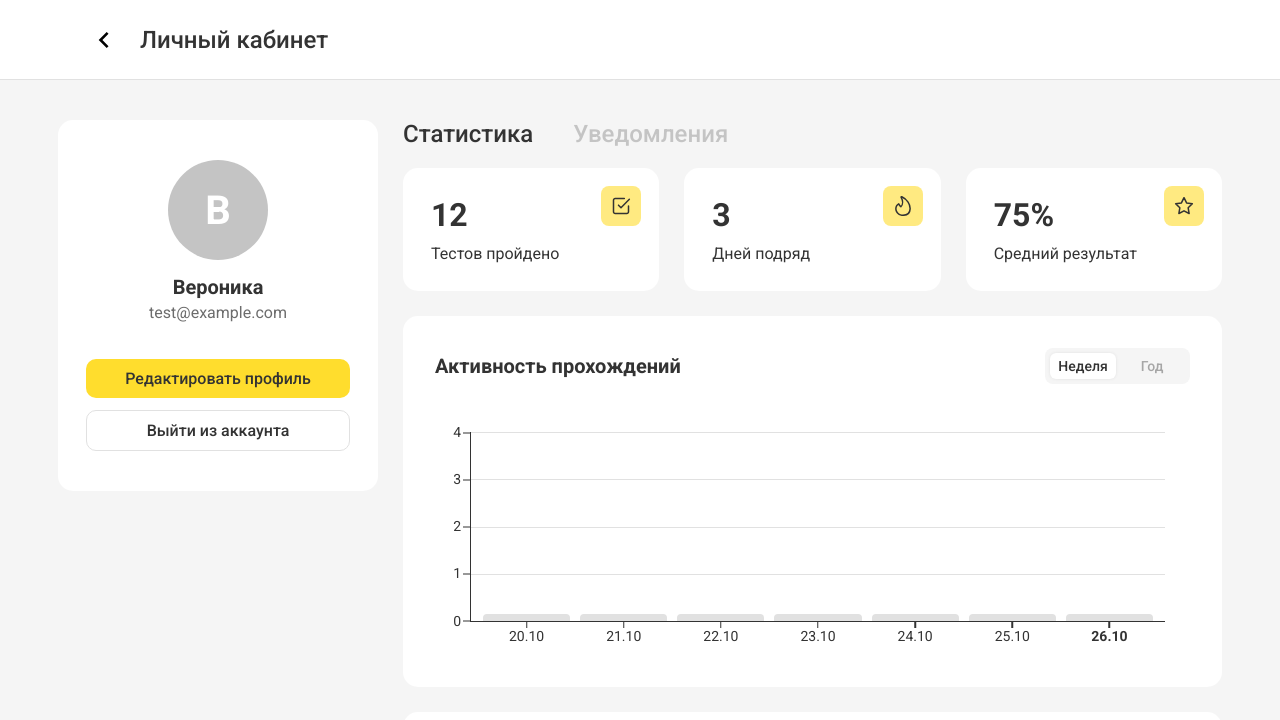
Test: ProfilePage › profile actions › edits name and shows updated name with toast
This screenshot has width=1280, height=720.
expect the heading "Вероника" is shown: met, box [173,275,263,299]
Click the button "Редактировать профиль" at coordinates (218, 378), box [86,359,350,398]
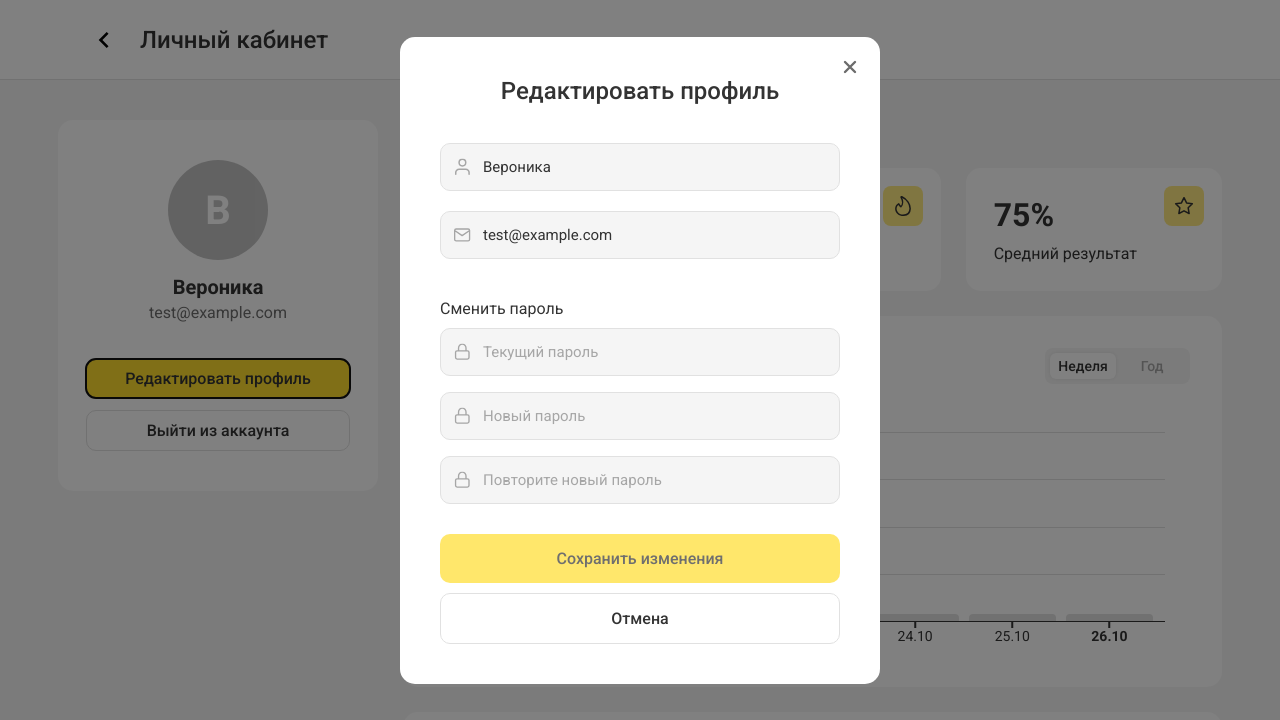
expect the heading "Редактировать профиль" is shown: met, box [501,76,779,104]
Replace the text in the 1st field with placeholder "Имя" with "Анна Смирнова" at coordinates (640, 166), box [440,142,840,190]
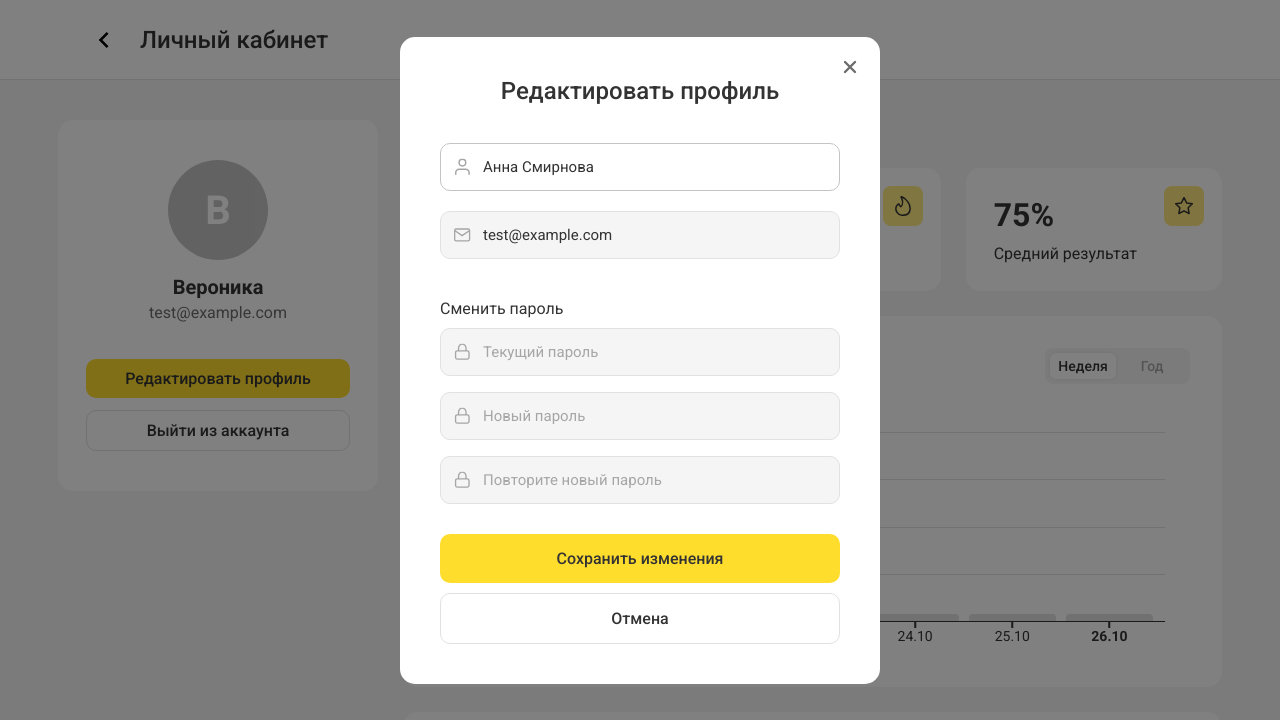
Click the button "Сохранить изменения" at coordinates (640, 558), box [440,534,840,582]
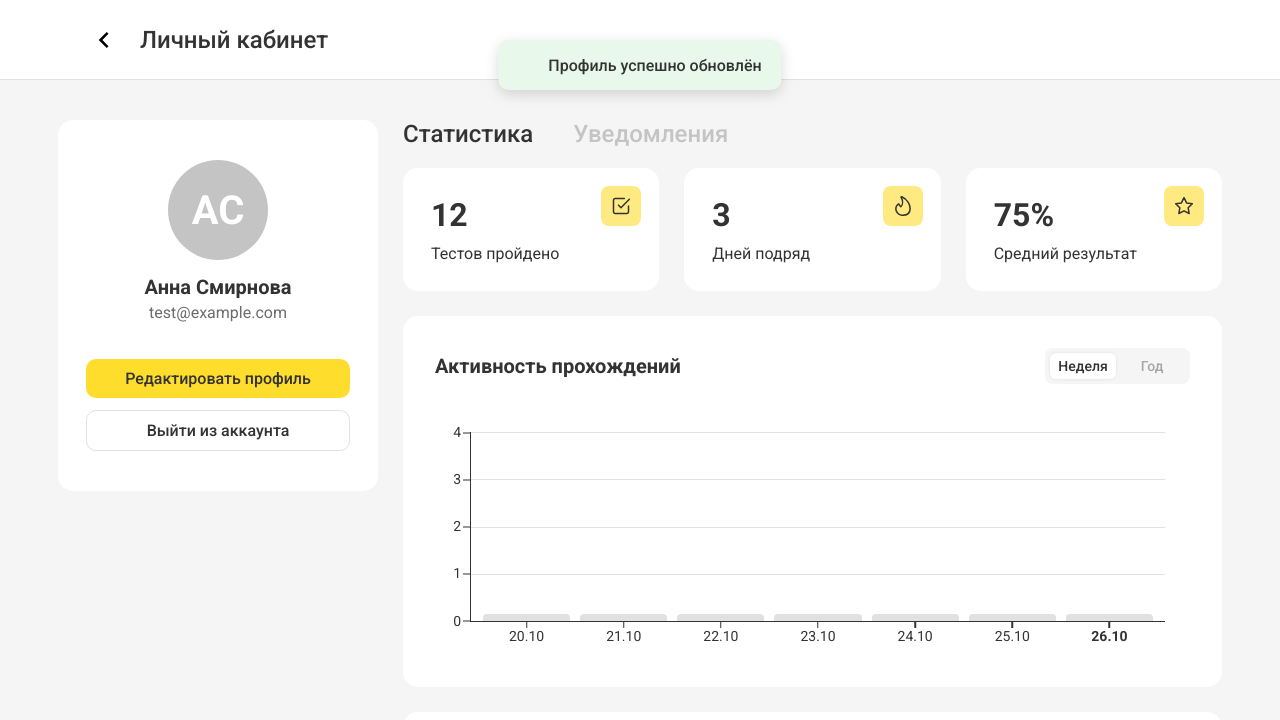
expect the heading "Анна Смирнова" is shown: met, box [144,275,291,299]
expect the text "АС" is shown: met, box [192,186,244,234]
expect the text "Профиль успешно обновлён" is shown: met, box [548,56,762,74]
